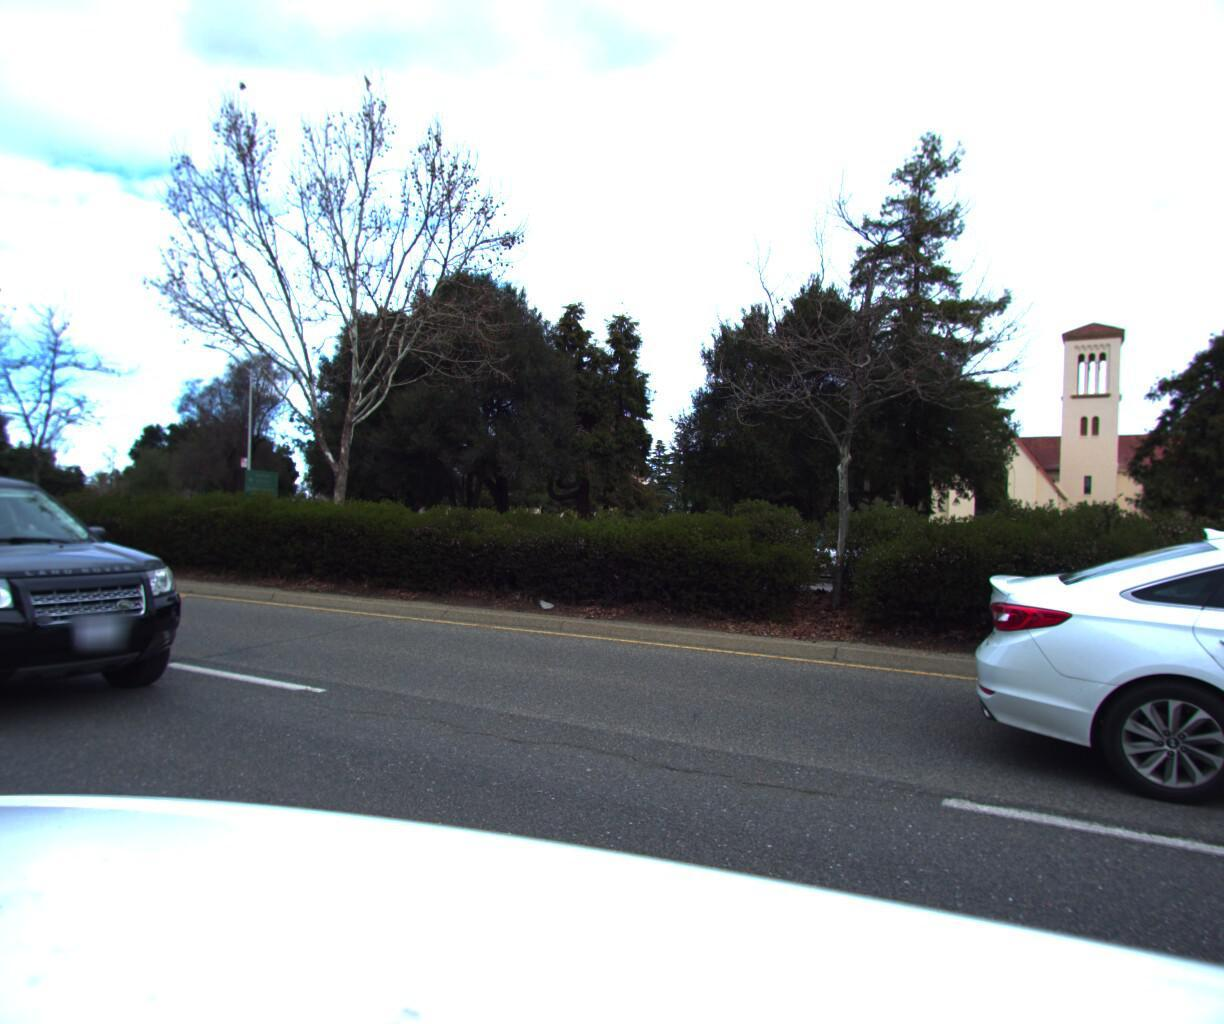car: (929, 511, 1224, 1006), (0, 447, 230, 756)
